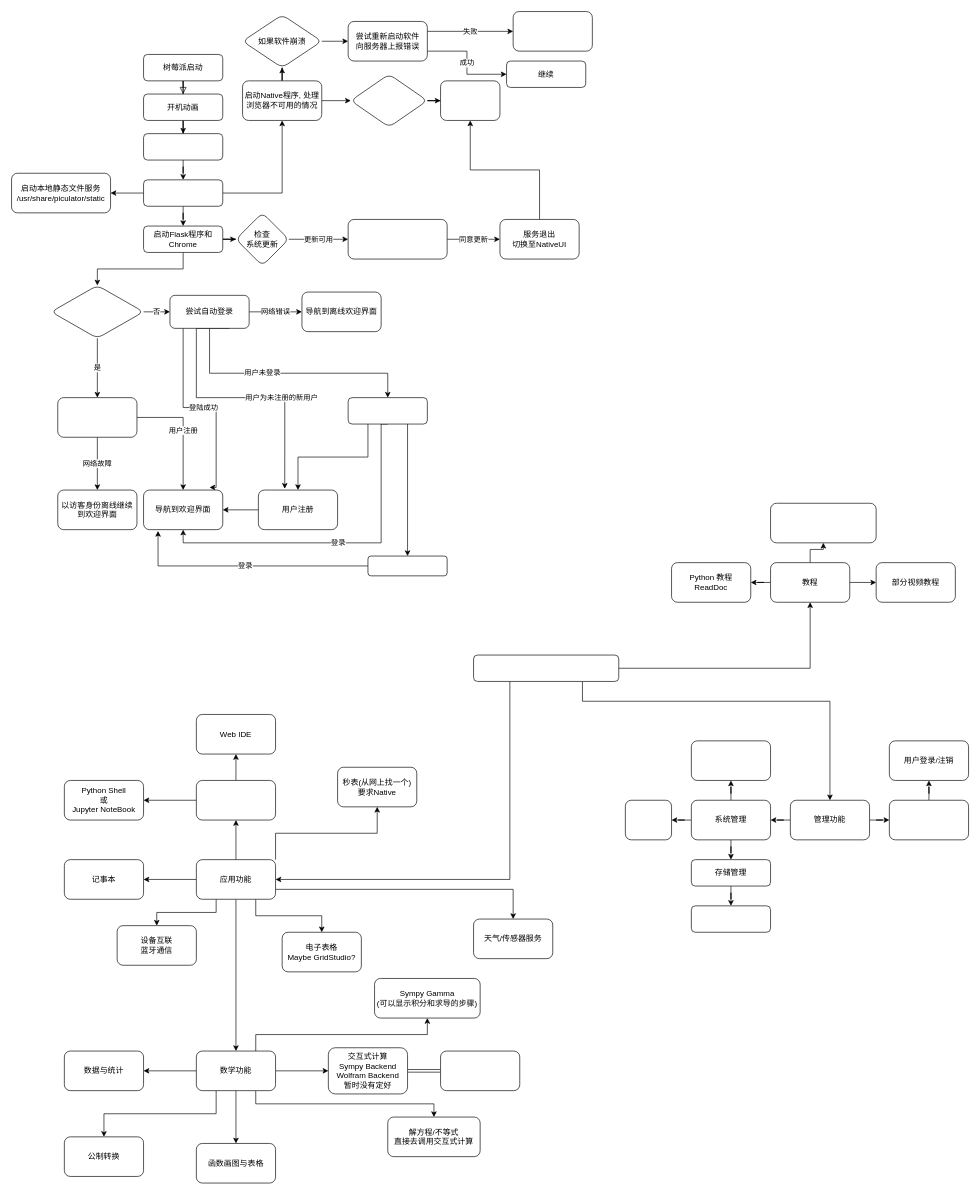
Some shapes in this 980 by 1195 pixel diagram are drawn without their labels. The centre of each missing label's shape, as x and y in pixels:
"Python编程" goes at pixel 236 800.
"使用文档 Markdown 生成的网页" goes at pixel 823 523.
"删除用户" goes at pixel 731 918.
"功能选择" goes at pixel 546 667.
"启动X和桌面" goes at pixel 183 146.
"启动开箱体验界面 OOBE" goes at pixel 97 417.
"启动更新UI 阻断用户操作" goes at pixel 470 100.
"启动自启脚本" goes at pixel 183 192.
"如果piculator 系统更新" goes at pixel 388 100.
"找回密码" goes at pixel 407 565.
"提醒用户 建议用户重启系统" goes at pixel 552 31.
"支持图形化输入??" goes at pixel 480 1070.
"更新时,请连接到外部电源 提醒用户更新可用" goes at pixel 397 239.
"检查是否为新机器" goes at pixel 97 311.
"用户登录/注册" goes at pixel 387 410.
"用户管理" goes at pixel 929 820.
"系统更新" goes at pixel 731 760.
"设置" goes at pixel 648 820.
